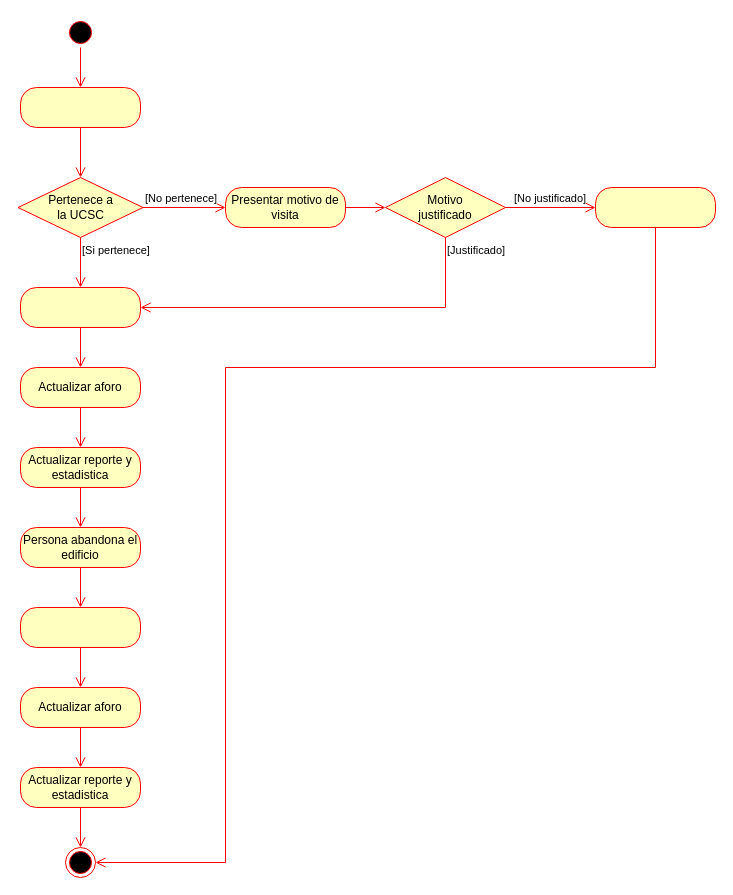
This 733x895 diagram has some shape labels left out. Each missing label, with the box of its shape:
Ingresa una persona al edificio: (20, 86, 140, 128)
No permitir ingreso: (594, 186, 716, 228)
Registrar entrada: (20, 286, 140, 328)
Registrar salida: (20, 606, 140, 648)
